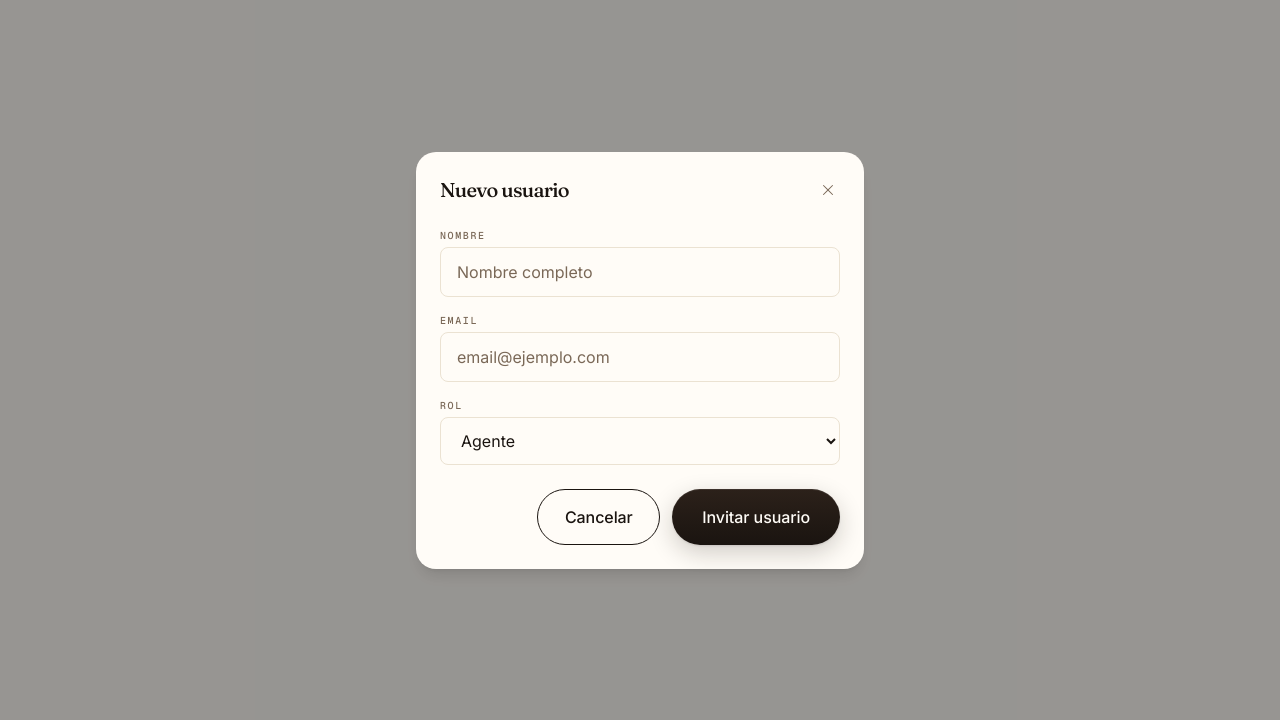
Test: CreateUserDialog › shows error when creation fails
Type "New User" into the field labelled "Nombre" at [640, 272], box x1=440 y1=246 x2=840 y2=296
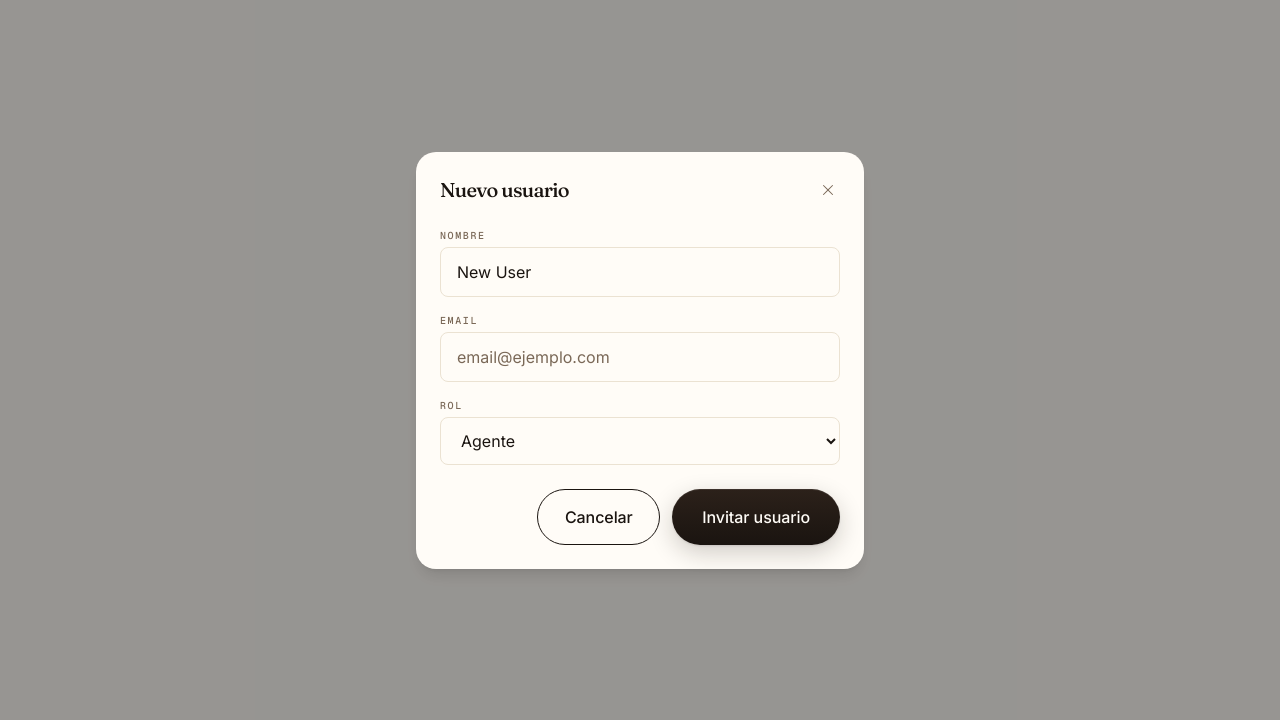
Type "new@wedomio.com" into the field labelled "Email" at [640, 356], box x1=440 y1=332 x2=840 y2=382
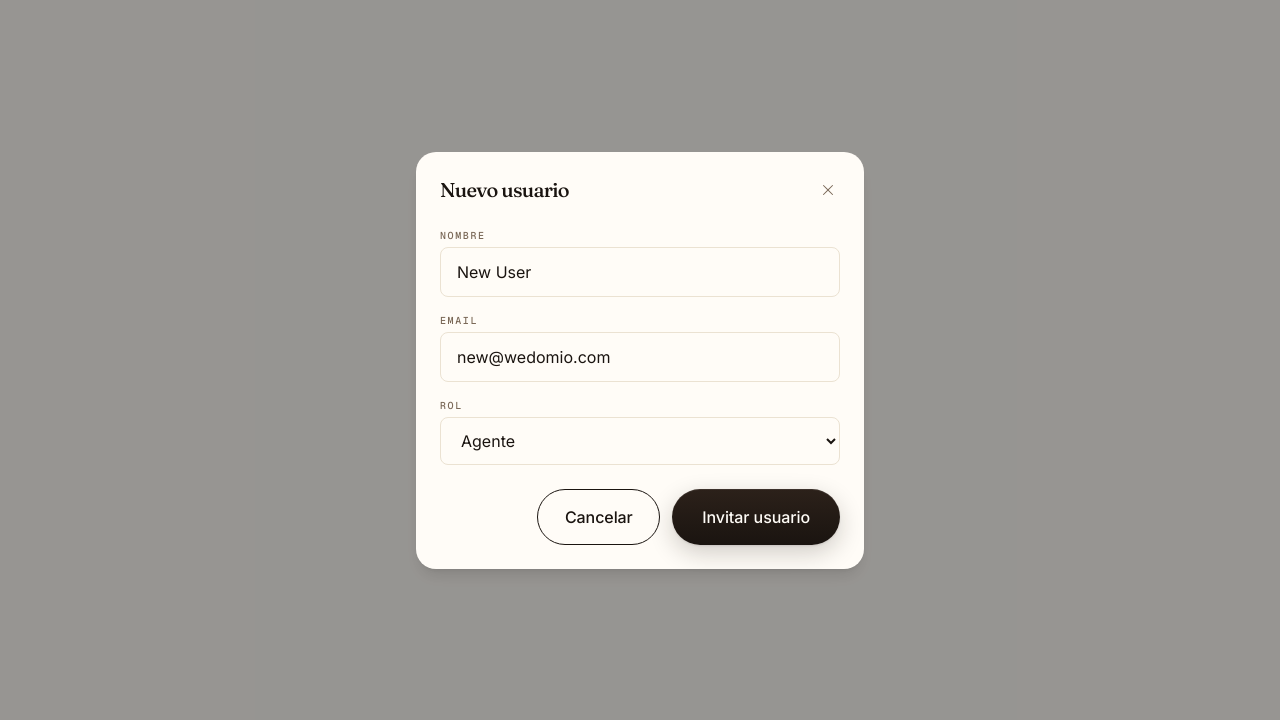
Submit the form, box x1=440 y1=228 x2=840 y2=544
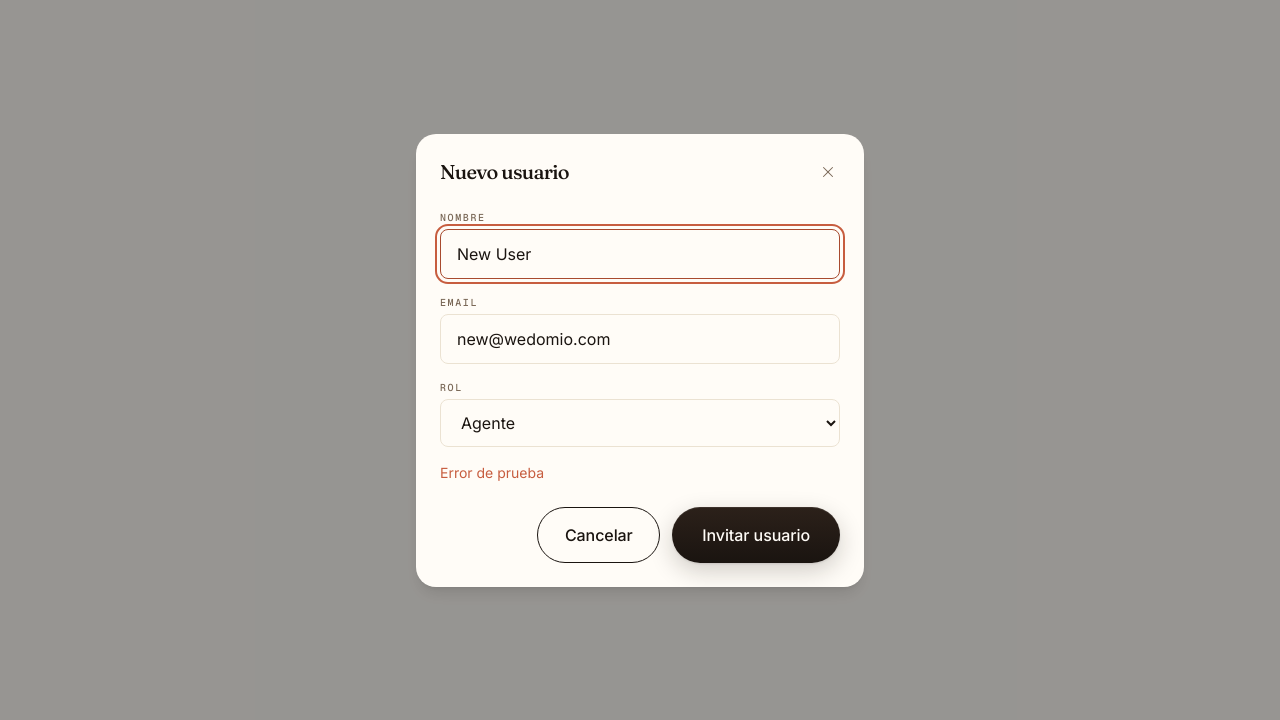
Check: the text "Error de prueba" is shown, box x1=440 y1=464 x2=544 y2=480
